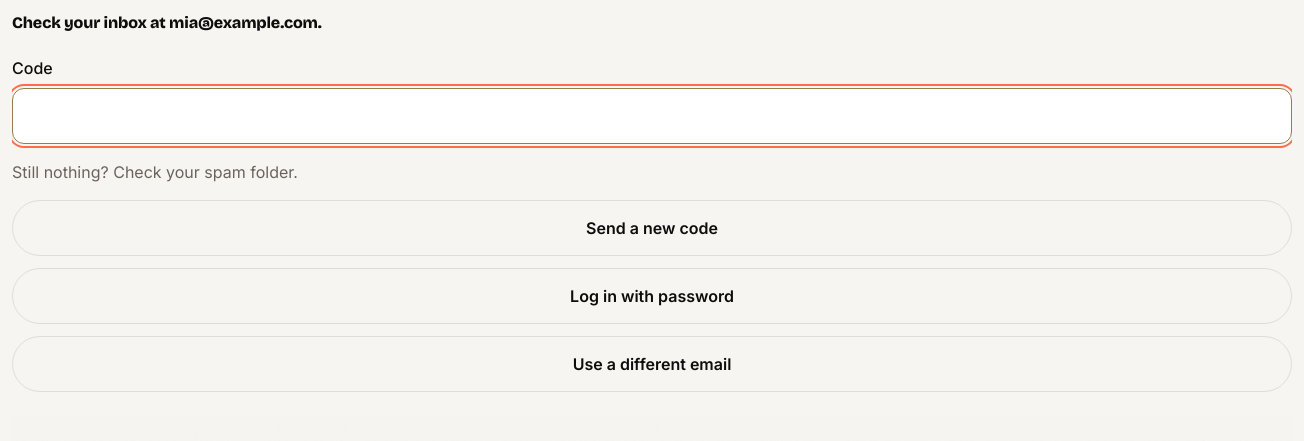
Test: CodeEntry, hourly cap › says it is too many, with no time and no held button, and points at the password on log in
Click the button "Send a new code": {"x": 652, "y": 228} [12,200,1292,256]
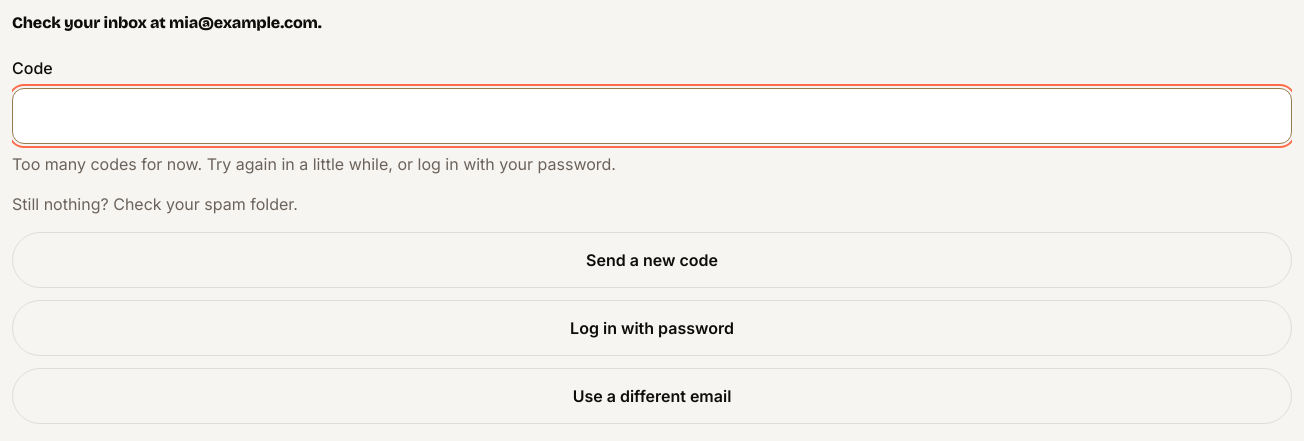
Expected: the button "Send a new code" is enabled, [12,232,1292,288]
Result: the text "Too many codes for now. Try again in a little while, or log in with your password." is shown at [12,154,616,174]
